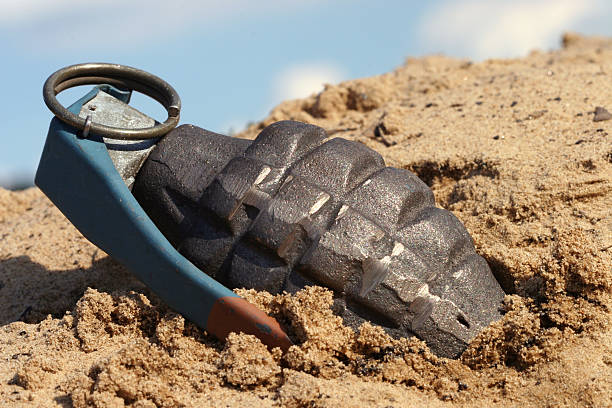e1: (24, 63, 525, 357)
